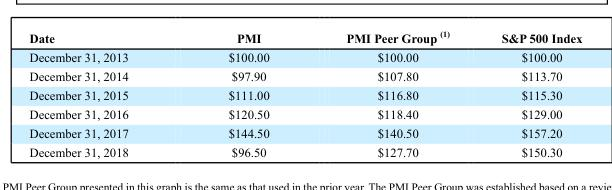table: (28, 29, 581, 158)
table column: (307, 29, 474, 158), (28, 29, 177, 158), (177, 29, 307, 158), (474, 29, 581, 158)
table column header: (28, 29, 581, 47)
table row: (28, 47, 581, 66), (28, 66, 581, 85), (28, 85, 581, 104), (28, 104, 581, 123), (28, 123, 581, 142), (28, 29, 581, 47), (28, 142, 581, 158)
